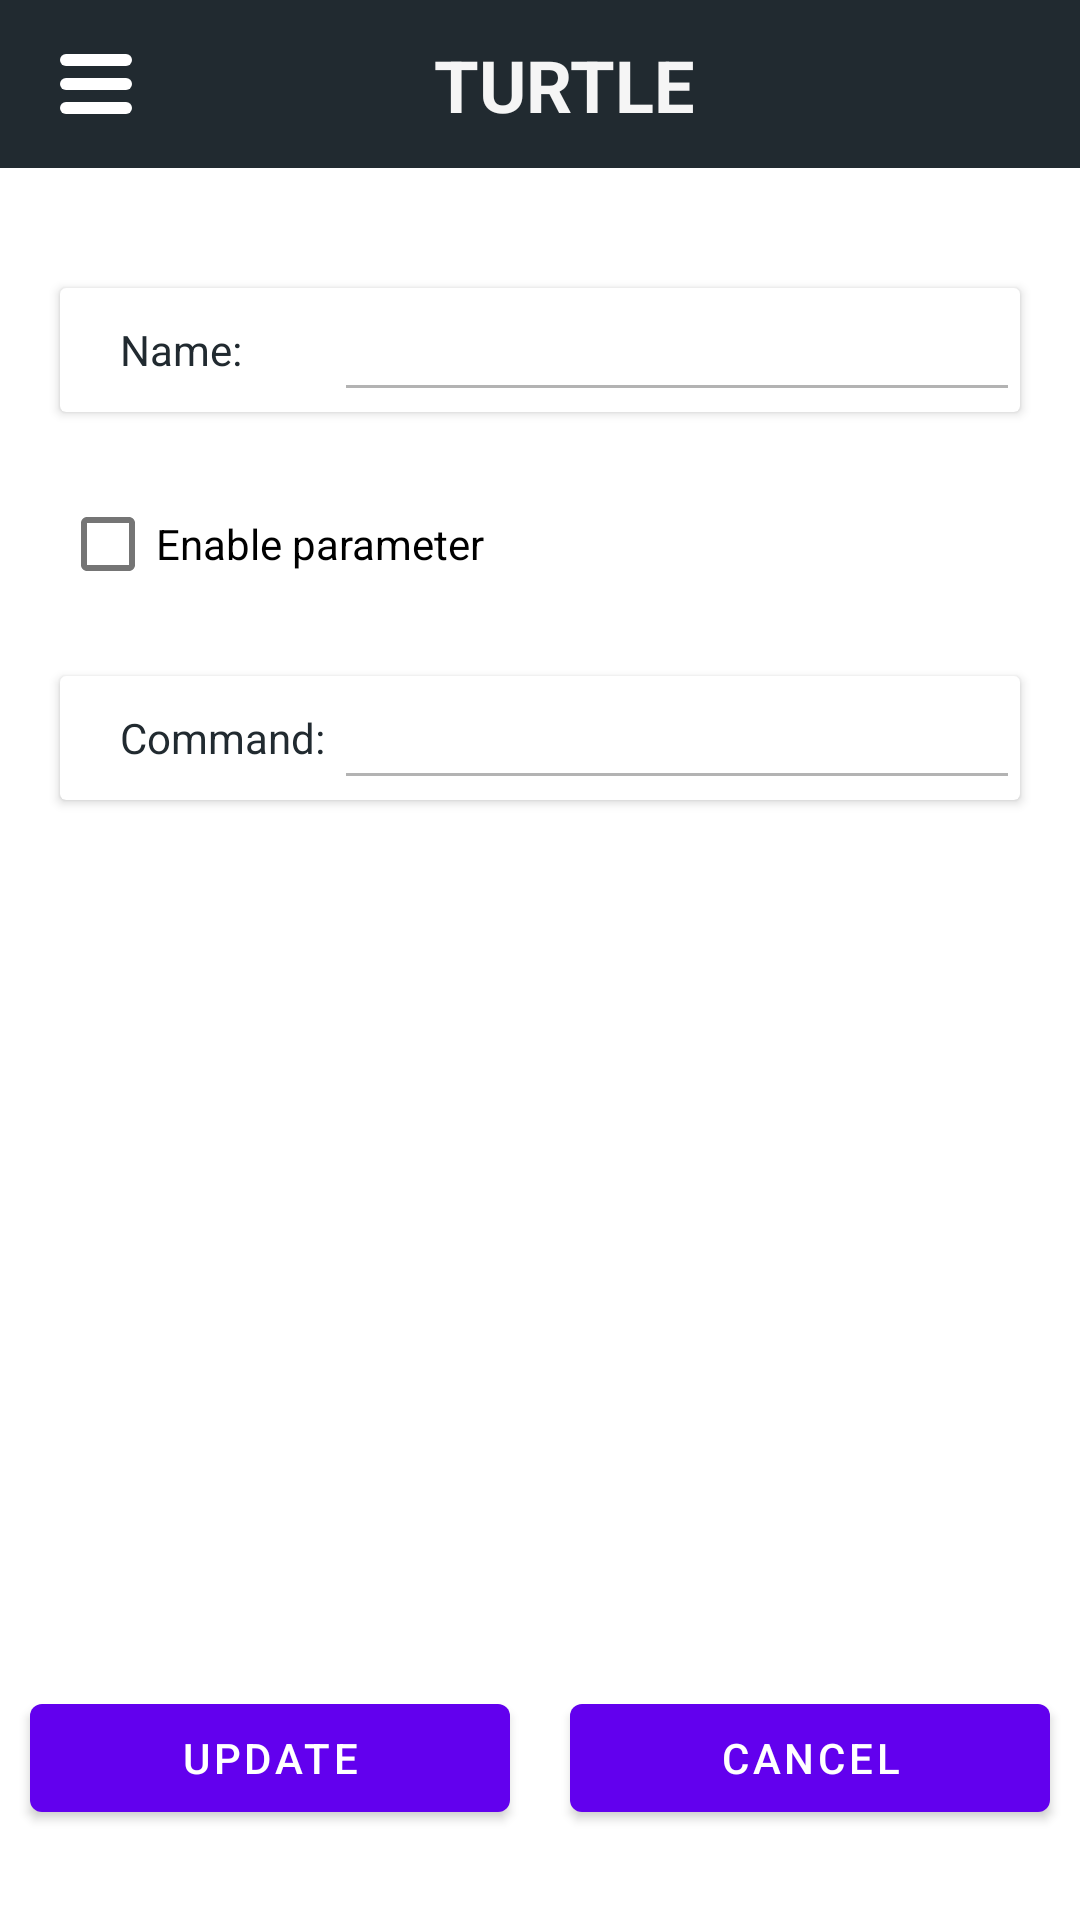

Point at icon controls on the screen. Image size 1080×1920, points as [x,y].
Menu button: [96,84]
